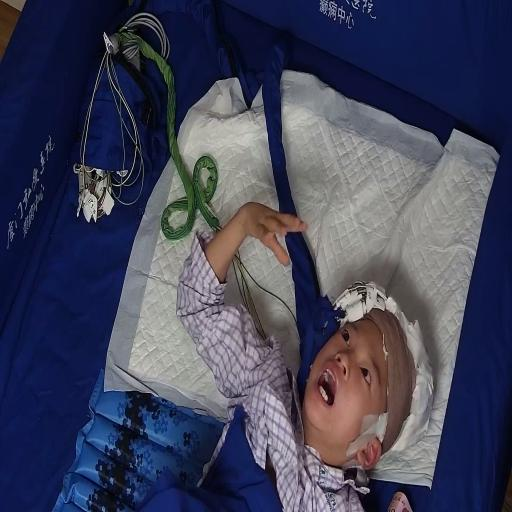Seizure: (308, 301, 394, 456)
